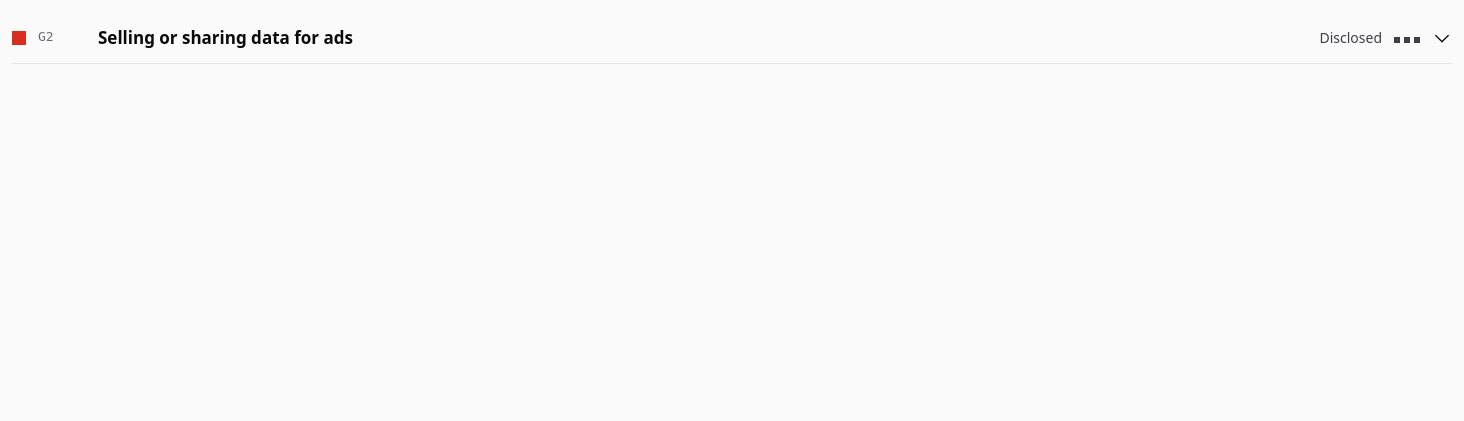
Test: FlagRow › shows the rule text verbatim, labelled as what the state means for THIS practice
The image size is (1464, 421).
Click the button.
click(45, 49)  # box [12,12,1452,63]
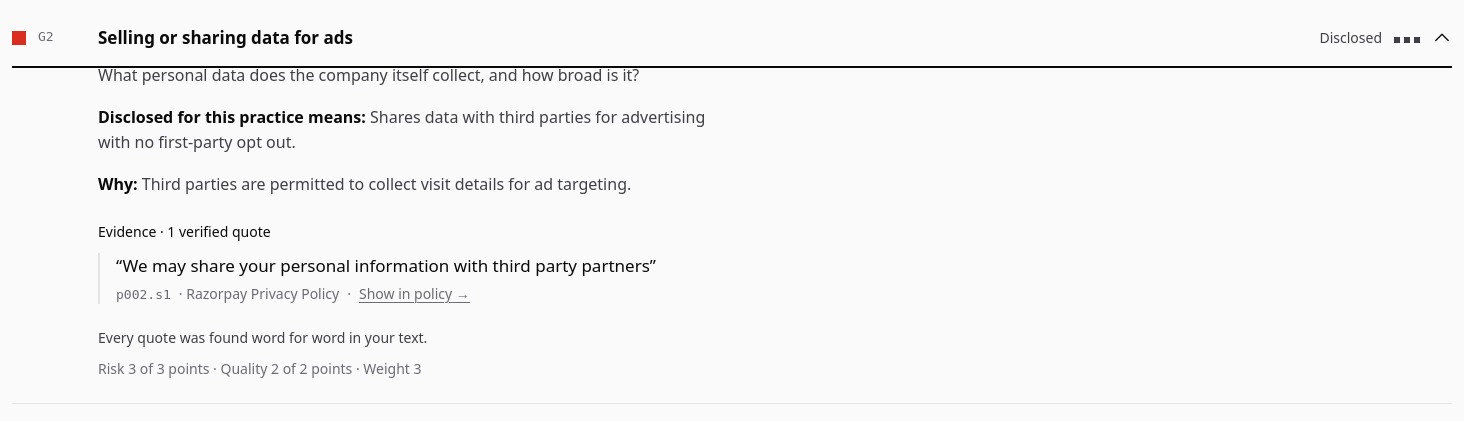
Now the text "Disclosed for this practice means:" is shown, box [98,106,366,128]
Now the text "Shares data with third parties for advertising with no first-party opt out." is shown, box [98,106,705,153]
